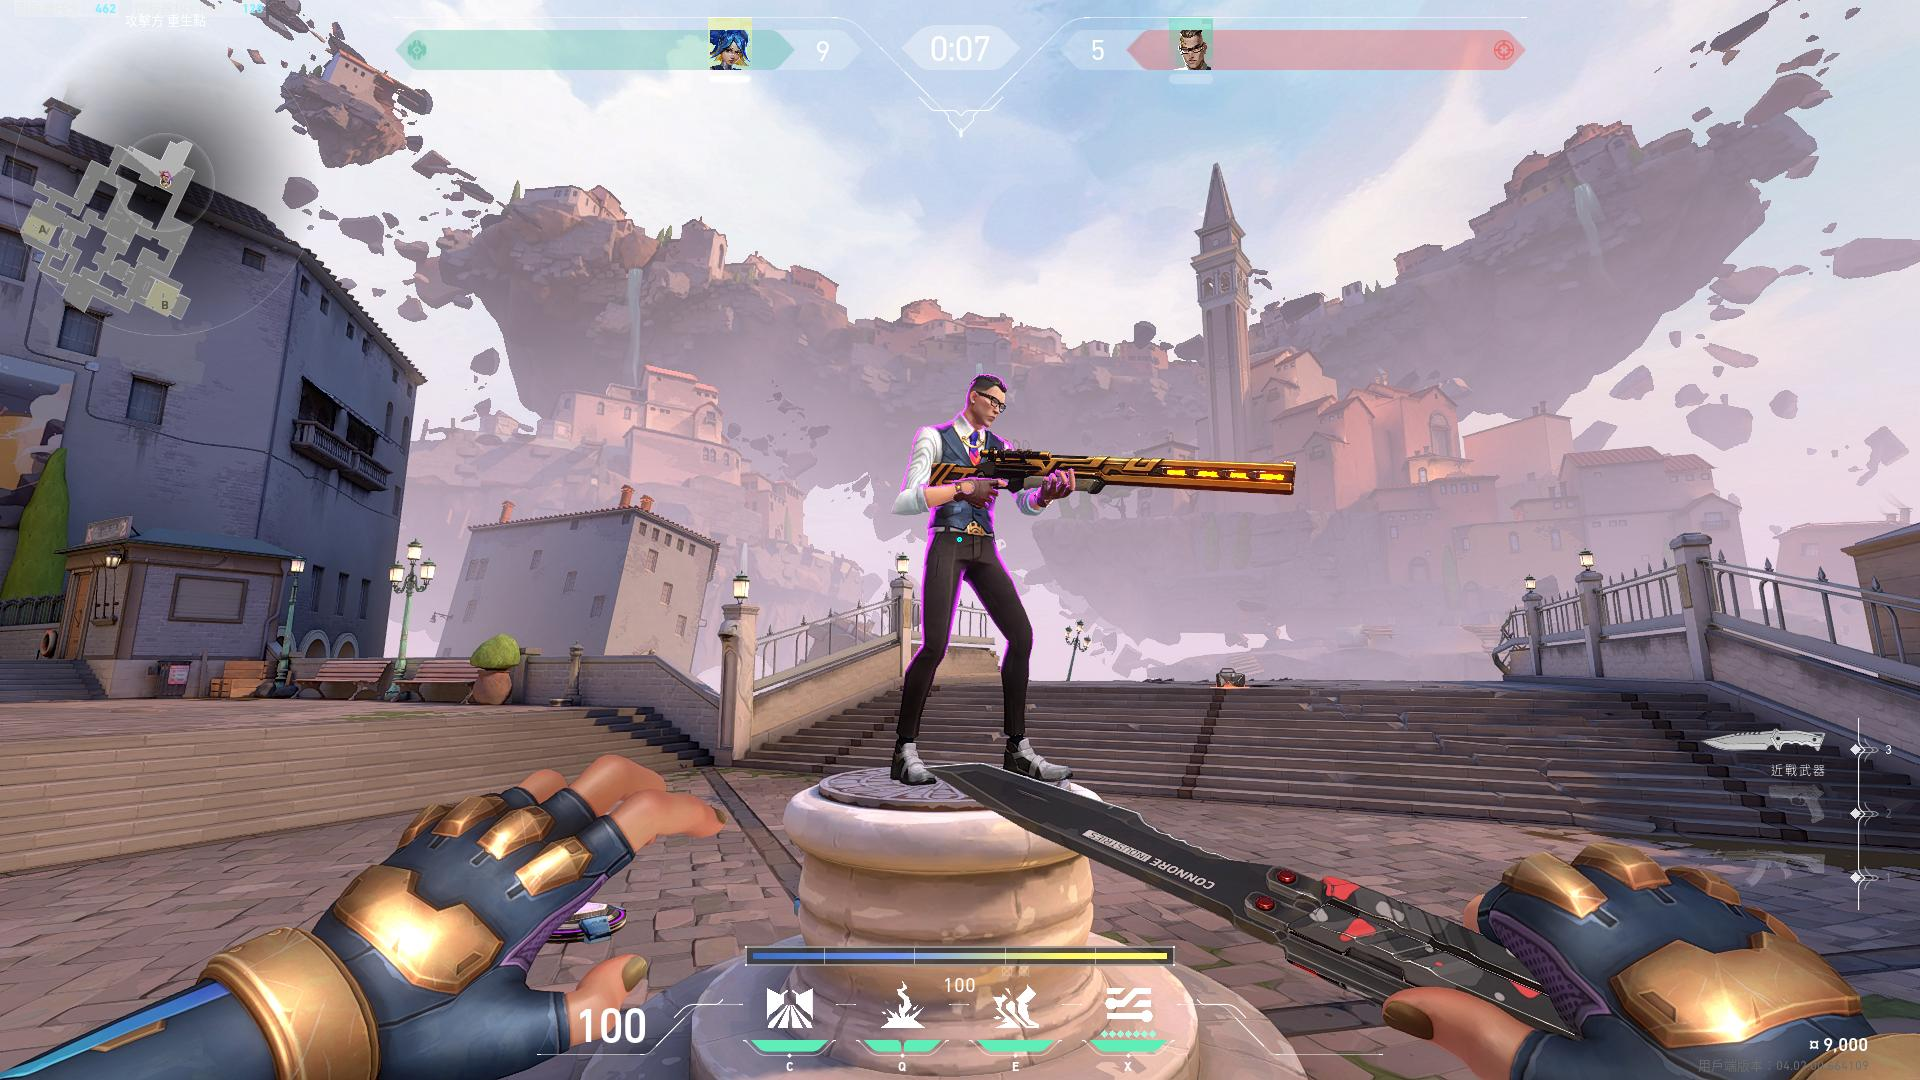enemyBody: (939, 440, 1000, 535)
enemyHead: (977, 390, 998, 423)
